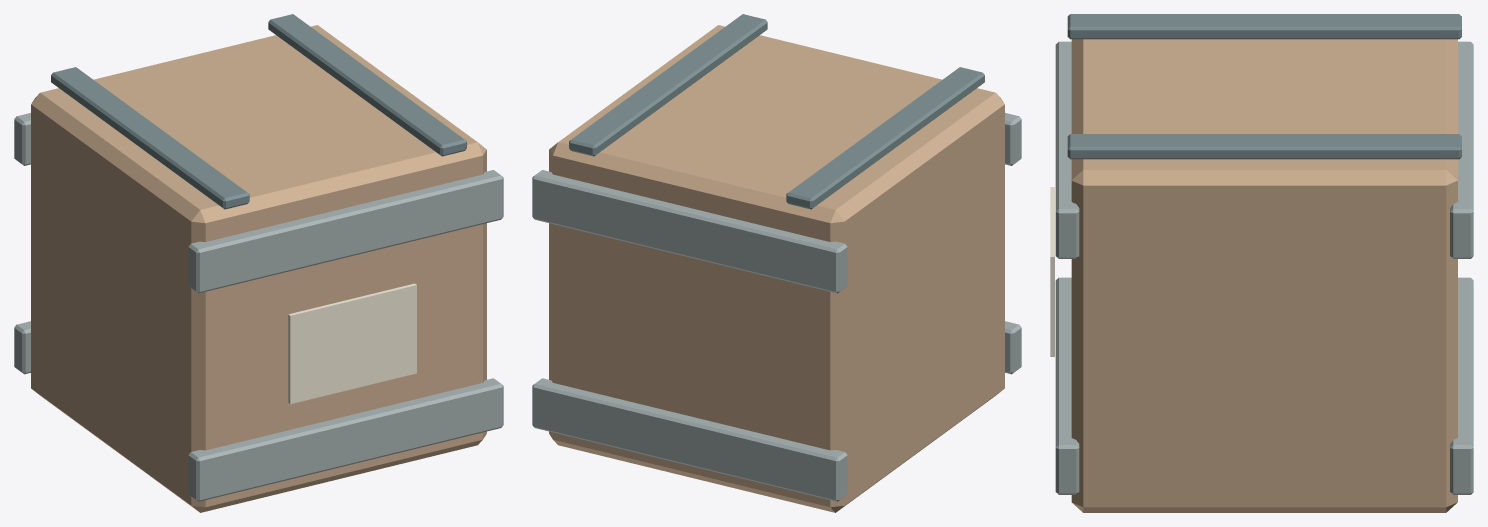
File: crate.glb
The picture shows the model from 3 angles, left to right: view 1: azimuth 30°, elevation 25°; view 2: azimuth 150°, elevation 25°; view 3: azimuth 270°, elevation 25°; orthographic projection. The views are drawn at different scales.
Visible parts, largest first — view 1: crate; view 2: crate; view 3: crate.
Boxes of the visible parts, box(x1,y1,x2,y2) form: crate: box(14, 14, 503, 512); crate: box(532, 14, 1021, 512); crate: box(1050, 14, 1473, 512).
Bounding box in the file's own units: 0.51 × 0.498 × 0.537.
